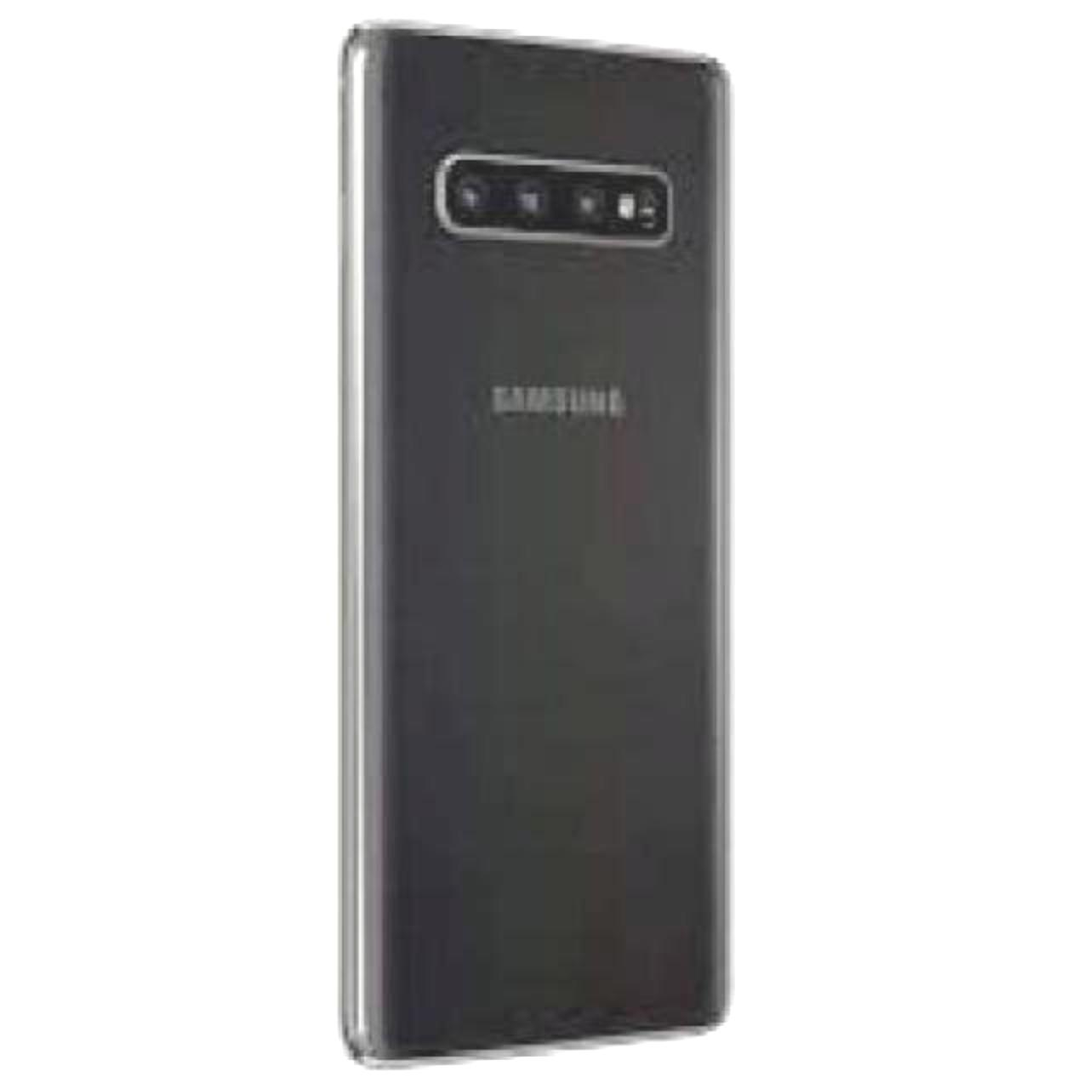phone: (338, 20, 741, 1075)
